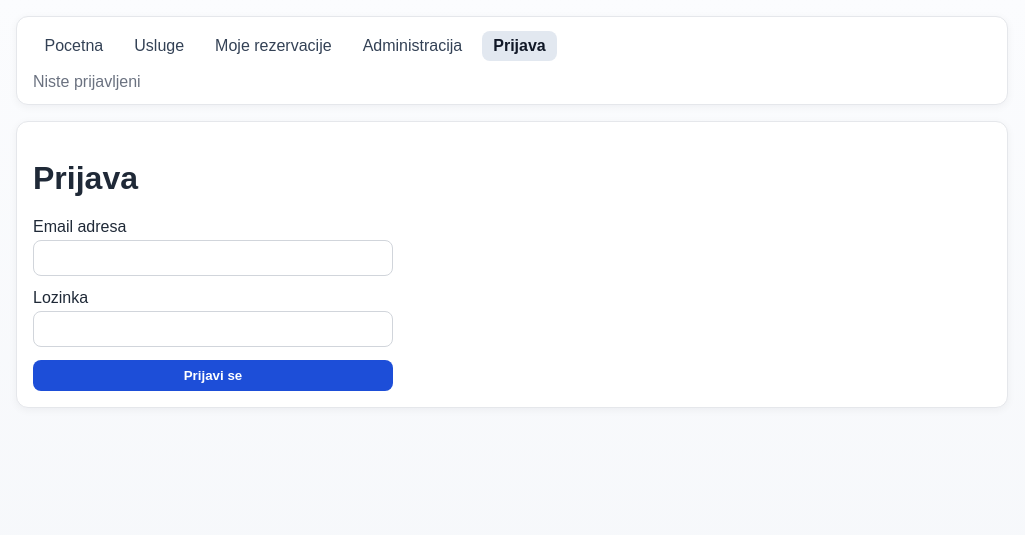
Login flow › sets current user and shows email in navbar
Step 1. Type "user@test.com" into the field labelled "Email adresa" → (213, 258), box [33, 240, 393, 276]
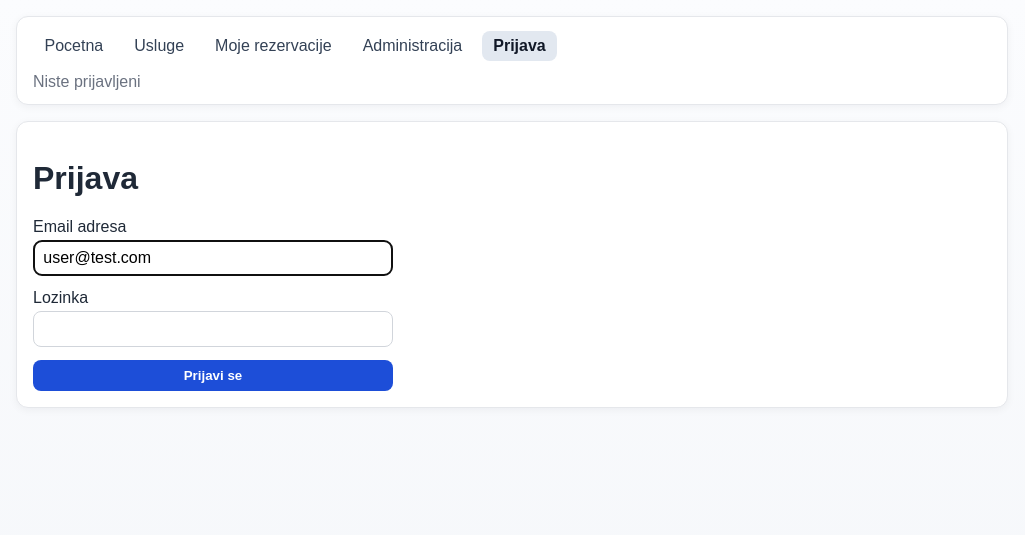
Step 2. Type "secret" into the password field labelled "Lozinka" → (213, 329), box [33, 311, 393, 347]
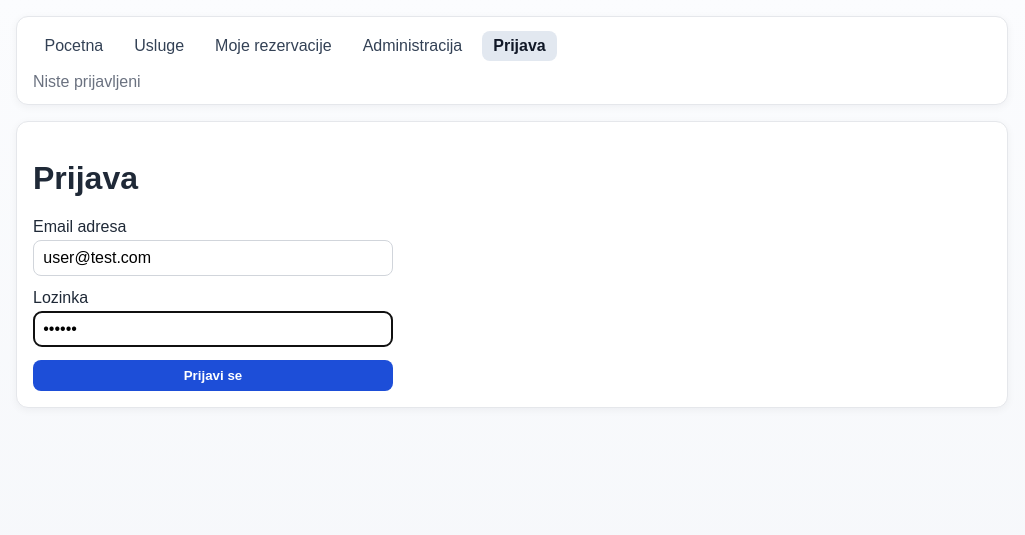
Step 3. Click the button "Prijavi se" → (213, 375), box [33, 360, 393, 391]
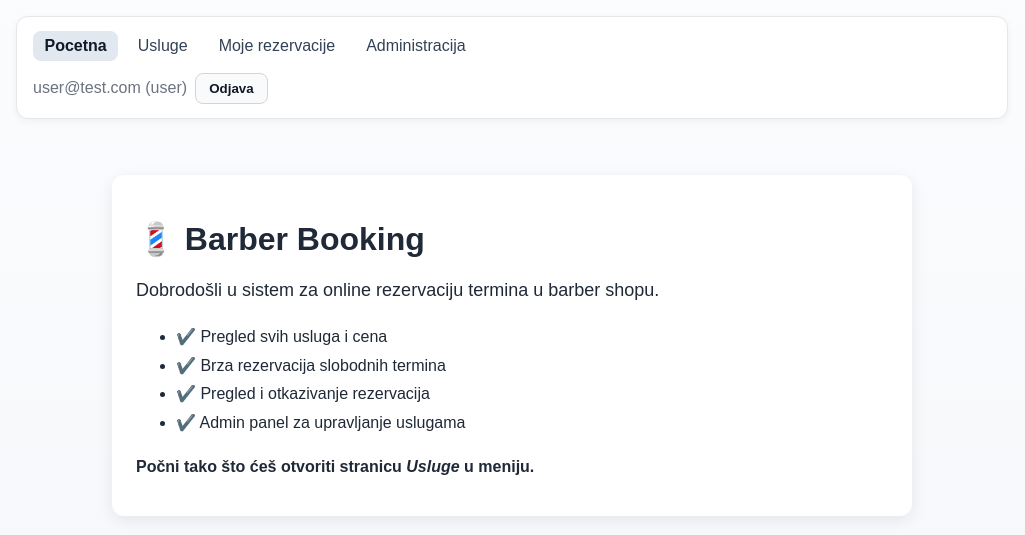
Expected: the text "user@test.com (user)" is shown, [33, 79, 187, 97]
